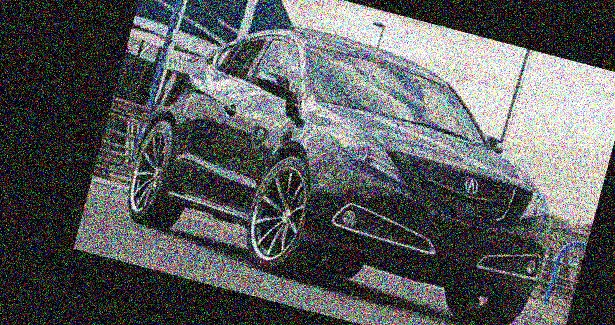car: (107, 0, 605, 325)
